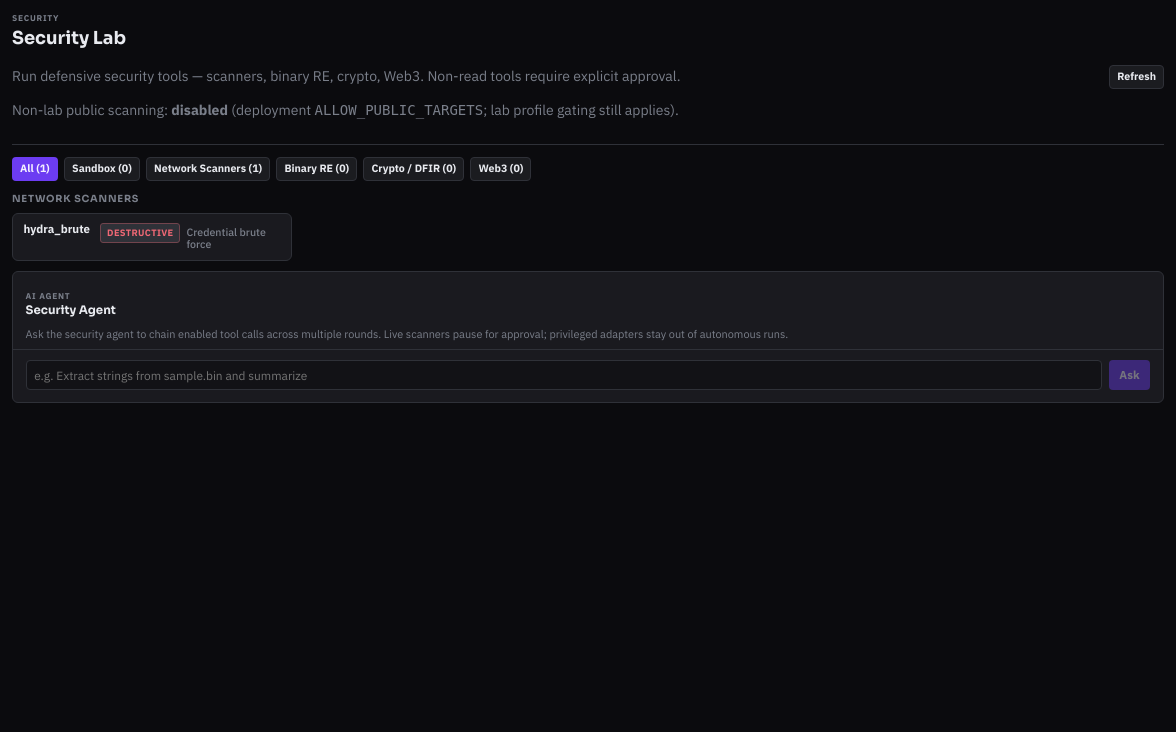
Test: Security Lab capability gating › requires a registered lab profile before previewing networked work
Click the text "hydra_brute" at x=57, y=229, box left=24, top=223, right=90, bottom=236
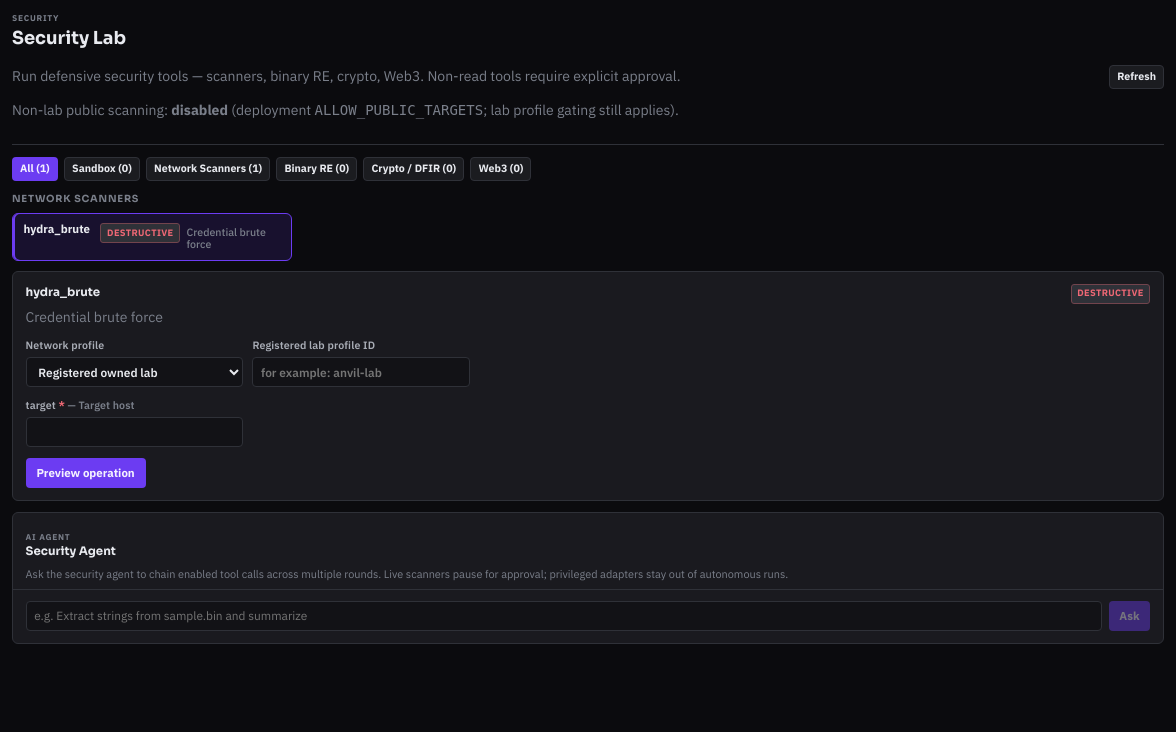
Click the button "Preview operation" at x=86, y=474, box left=26, top=458, right=146, bottom=488
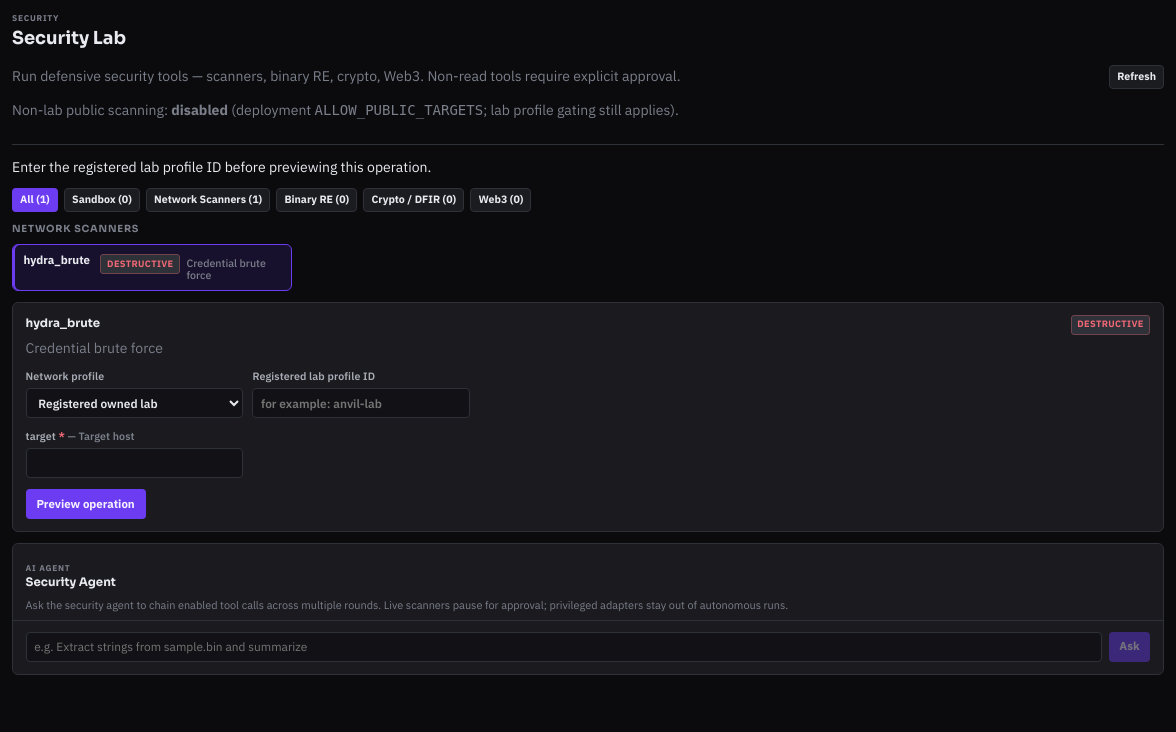
Expected: the message shows "registered lab profile ID", left=12, top=158, right=431, bottom=176
